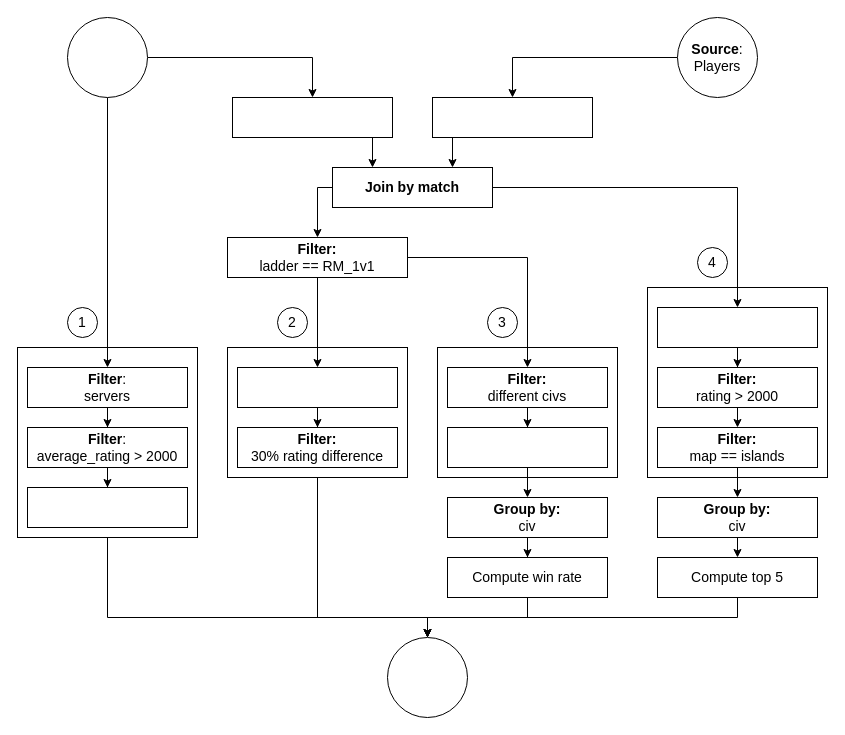
Image size: 845x735. Some labels were removed from this diagram. The shapes that lost their labels are listed below. From the top down, each one's centre as x and y in pixels, then its label:
At (107,57): "Source : Matches".
At (312,117): "Clean match data".
At (512,117): "Clean player data".
At (737,327): "Filter: ladder == RM_TEAM".
At (317,387): "Filter: winner rating > 1000".
At (527,447): "Filter: map == arena".
At (107,507): "Filter : duration > 2h".
At (427,677): "Sink".
